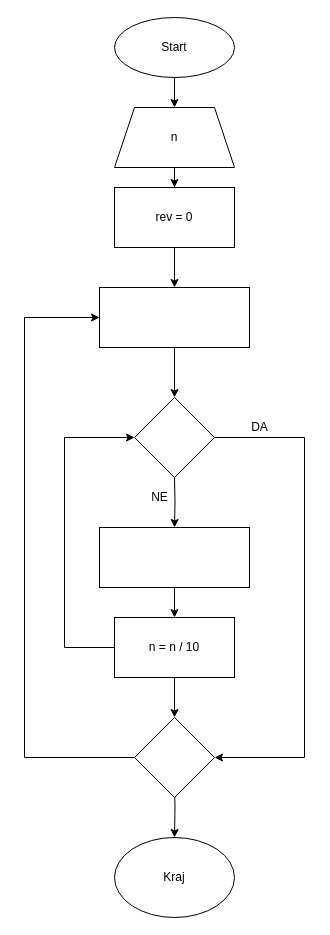
The diagram is 330 pixels wide and 935 high, and some of its shapes have lost their labels. Each missing label, with the centre of its shape:
i = 1, n div 10 ! =0, i++: the point at 174,317
n % 10 ==2: the point at 174,437
rev = (rev*10) + (n % 10): the point at 174,557
